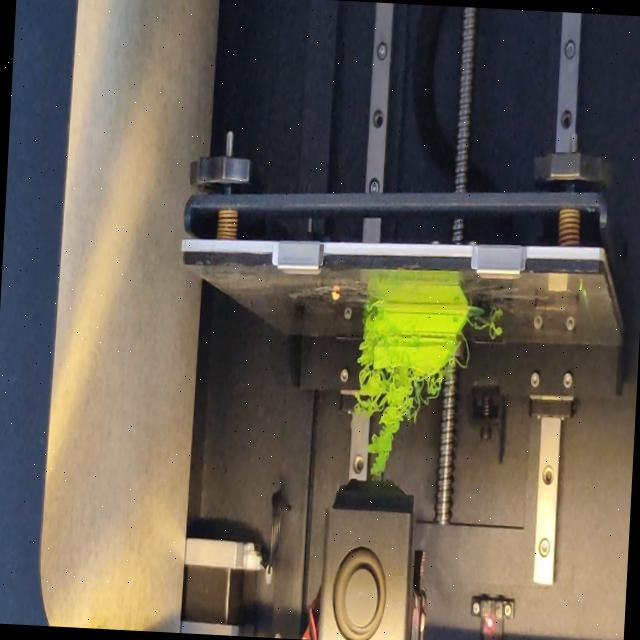spaghetti: (354, 364, 444, 480), (469, 315, 508, 341), (456, 332, 472, 378), (360, 305, 372, 360)
